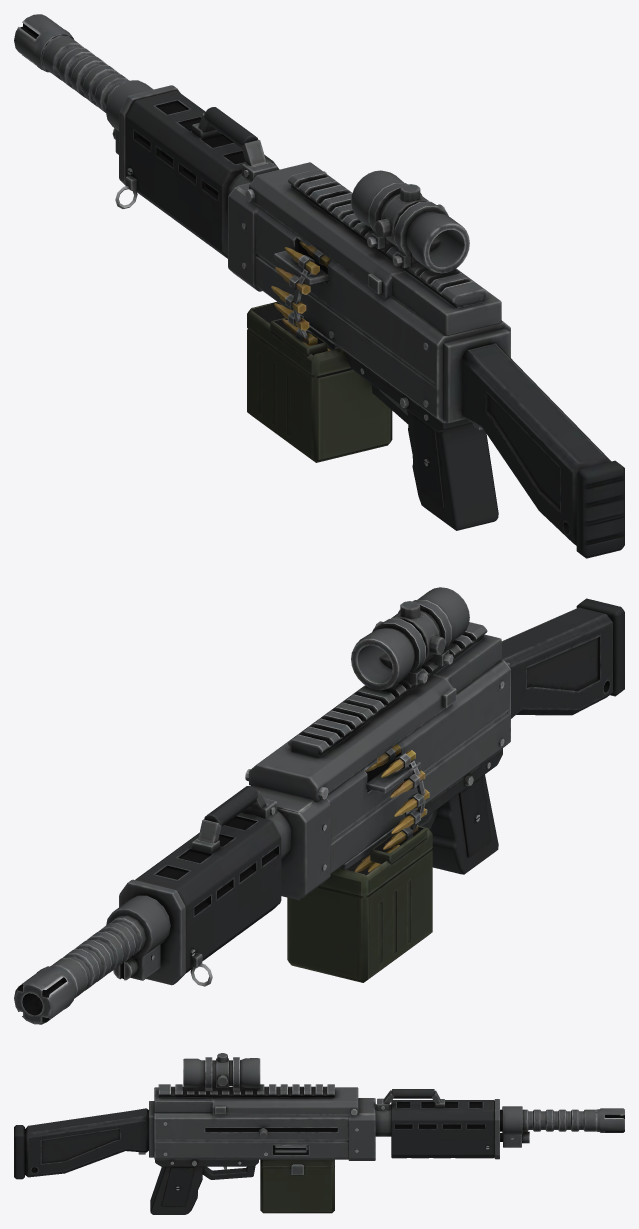
File: lmg-fp.glb
3 views of the same model, one above another, from view 1: azimuth 30°, elevation 25°; view 2: azimuth 150°, elevation 25°; view 3: azimuth 270°, elevation 25° (orthographic). The views are drawn at different scales.
Visible parts, largest first — view 1: machine-gun, cover-mesh, mag-mesh, belt-mesh; view 2: machine-gun, cover-mesh, mag-mesh, belt-mesh; view 3: machine-gun, cover-mesh, mag-mesh, bolt-mesh.
Part boxes in pixels (x1,y1,x2,y2): machine-gun: (14,14,624,558); cover-mesh: (249,162,487,308); mag-mesh: (247,301,392,462); belt-mesh: (271,241,330,345); machine-gun: (14,598,624,1024); cover-mesh: (249,587,487,801); mag-mesh: (287,825,432,982); belt-mesh: (366,744,429,849); machine-gun: (14,1087,624,1214); cover-mesh: (158,1053,358,1115); mag-mesh: (260,1159,334,1213); bolt-mesh: (258,1128,306,1152).
Size of the model in its own units: 0.1258 by 0.2795 by 1.
Materials: 1 (1 with a texture image).
